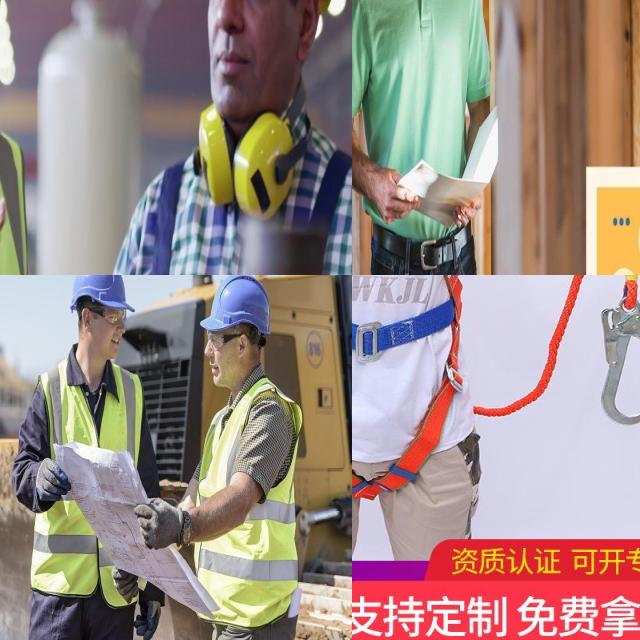Harness: (352, 275, 468, 496), (597, 296, 640, 436)
No_Ear-Protection: (297, 0, 319, 69), (80, 303, 93, 336), (238, 332, 248, 358)
face_nomask: (193, 0, 284, 128), (204, 330, 253, 394), (85, 298, 129, 357)
glasses: (102, 304, 129, 328), (203, 328, 229, 352)
hand_glove: (133, 496, 193, 558), (29, 456, 73, 506), (134, 599, 163, 640), (113, 569, 141, 602)
hand_noglove: (371, 146, 411, 235)
head_helmet: (201, 275, 274, 340), (71, 275, 132, 312)
person: (108, 0, 352, 275), (352, 0, 495, 275), (41, 275, 142, 640), (198, 275, 284, 640), (0, 0, 89, 275)
vest: (32, 363, 152, 579), (197, 389, 310, 615)
